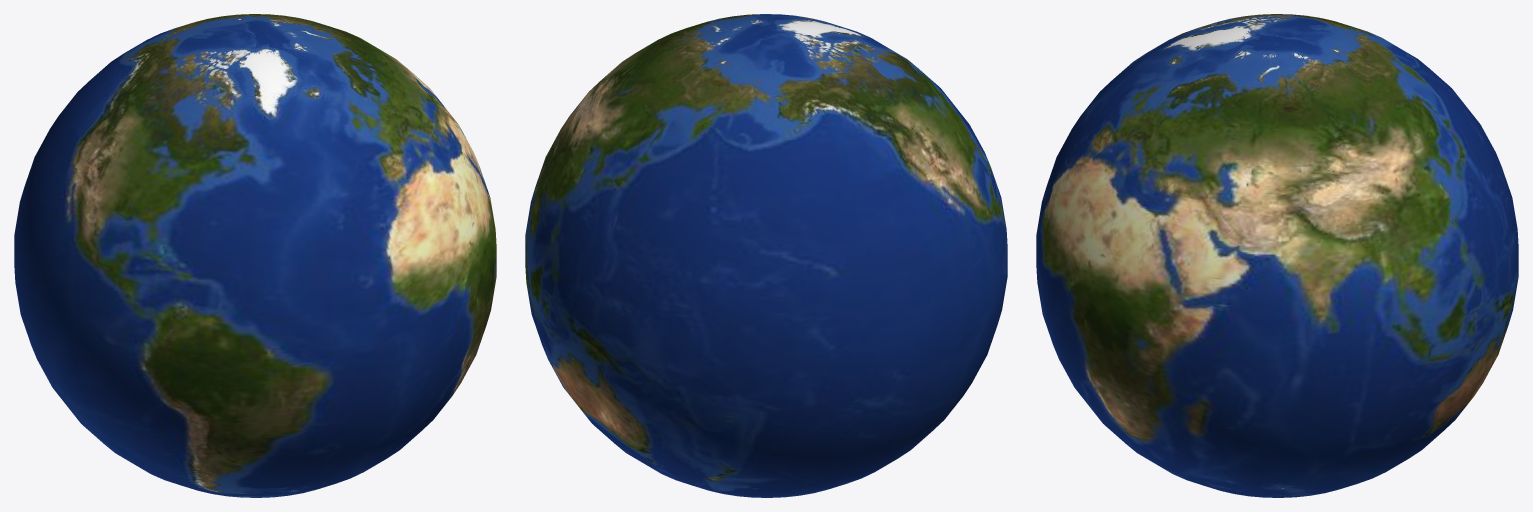
The model's file is prop_earth.glb.
3 renders of one model, left to right at view 1: azimuth 30°, elevation 25°; view 2: azimuth 150°, elevation 25°; view 3: azimuth 270°, elevation 25°, orthographic.
Visible parts, largest first — view 1: earth; view 2: earth; view 3: earth.
Boxes of the visible parts, <box> form: earth: <box>14,14,496,497</box>; earth: <box>525,14,1007,497</box>; earth: <box>1036,14,1518,497</box>.
Size of what is drawn, in the model's own units: 2.57 by 2.58 by 2.57.
Materials: 1 (1 with a texture image).
